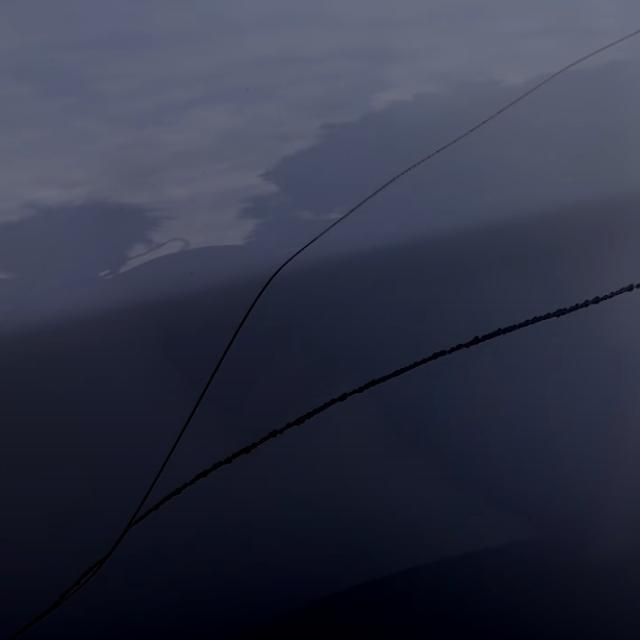crack: (192, 109, 515, 387), (201, 304, 600, 502)
